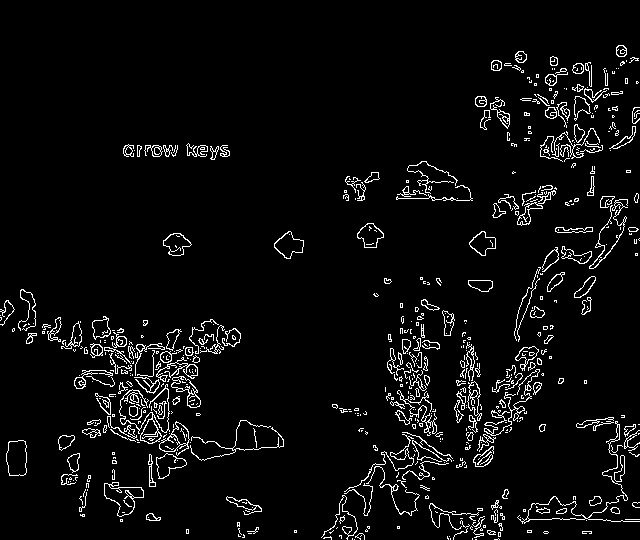left: (264, 225, 314, 268), (462, 226, 505, 264)
up: (348, 216, 393, 257), (156, 224, 200, 265)
